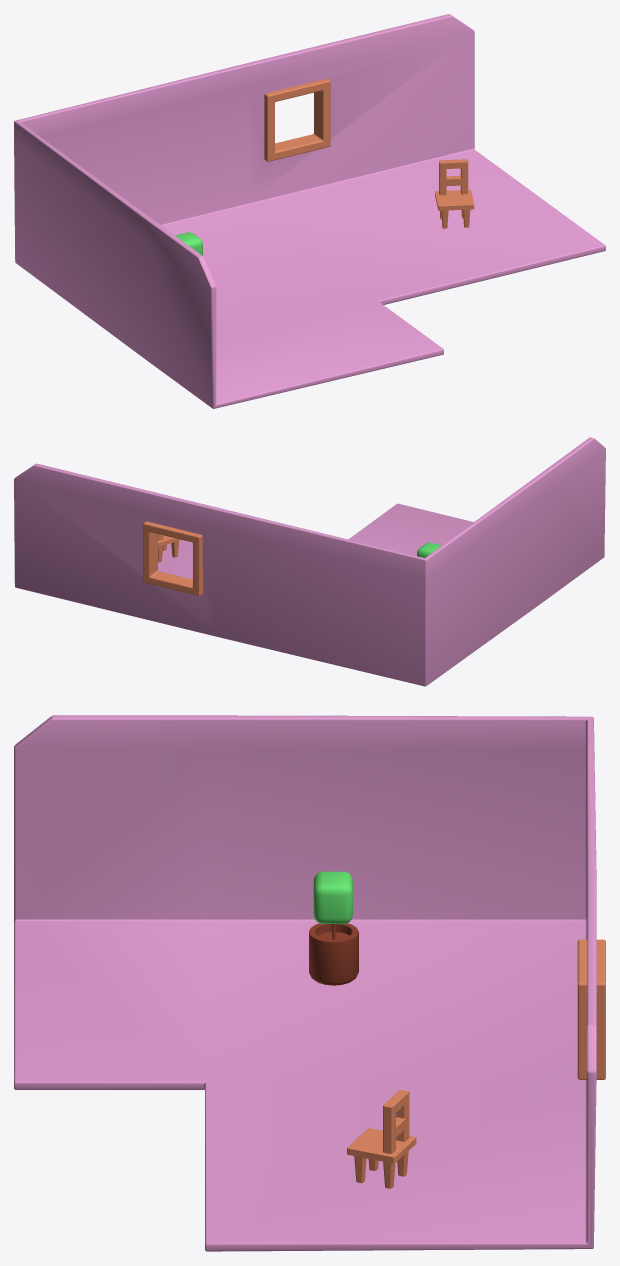
Rendered from sample-room.glb.
3 views of the same model, one above another, from view 1: azimuth 30°, elevation 25°; view 2: azimuth 150°, elevation 25°; view 3: azimuth 270°, elevation 25° (orthographic). The views are drawn at different scales.
Visible parts, largest first — view 1: room, window, chair; view 2: room, window, chair; view 3: room, chair, window, Cylinder, Cube.
Boxes of the visible parts, box(x1,y1,x2,y2) form: room: box(14, 14, 605, 408); window: box(264, 78, 330, 161); chair: box(435, 159, 474, 228); room: box(14, 437, 605, 686); window: box(143, 521, 202, 595); chair: box(158, 534, 181, 562); room: box(14, 715, 596, 1251); chair: box(347, 1090, 416, 1188); window: box(577, 939, 605, 1079); Cylinder: box(309, 923, 358, 985); Cube: box(313, 871, 352, 923).
Bounding box in the file's own units: 4.05 × 1.22 × 3.1.
